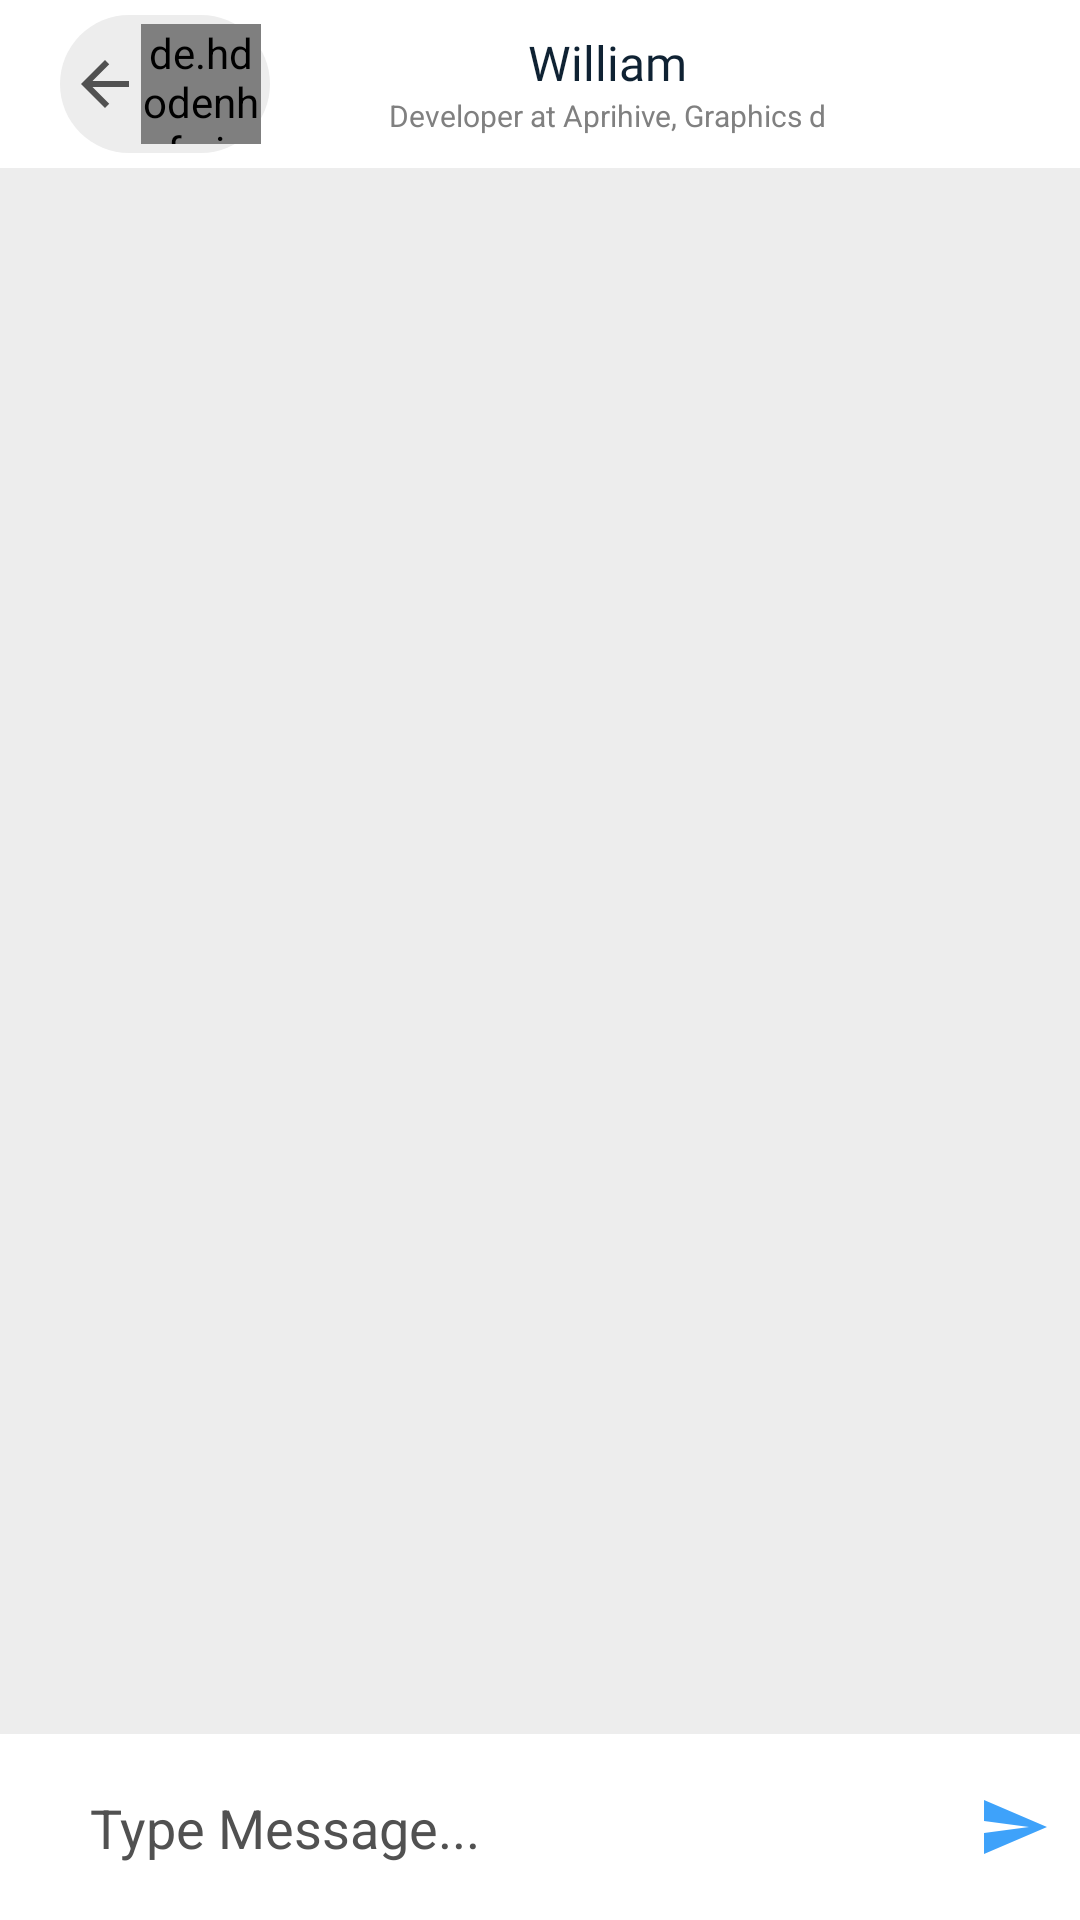

Icon bounding boxes for this 1080*1920 phone screenshot, format [x1,y1,x2,y2]:
arrow back: [81,60,129,108]
send: [984,1800,1047,1854]
